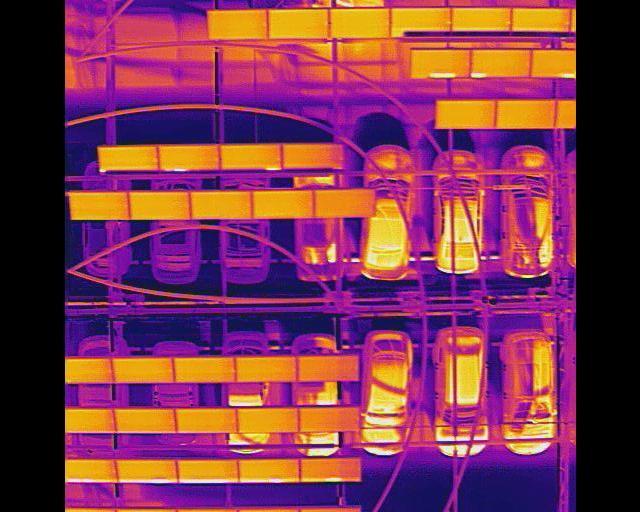No-Anomaly: (432, 99, 496, 130), (250, 190, 316, 219), (327, 7, 390, 37), (312, 189, 376, 218), (266, 8, 329, 37), (494, 99, 557, 128), (187, 192, 251, 220), (206, 10, 265, 39), (174, 407, 237, 434), (126, 192, 189, 219), (235, 406, 300, 432), (170, 356, 235, 382), (297, 405, 358, 432), (67, 192, 128, 219), (295, 354, 358, 380), (235, 355, 295, 382), (282, 144, 345, 169), (112, 407, 175, 432), (449, 7, 510, 31), (98, 146, 156, 171), (508, 8, 571, 31), (112, 359, 172, 383), (390, 8, 449, 32), (64, 409, 114, 432), (64, 358, 112, 381), (237, 507, 298, 512)
Unclassified: (407, 49, 470, 77), (157, 144, 220, 172), (468, 50, 532, 77), (219, 143, 282, 170), (296, 458, 359, 483), (236, 458, 298, 483), (176, 459, 237, 483), (113, 461, 176, 482), (64, 462, 116, 482)
